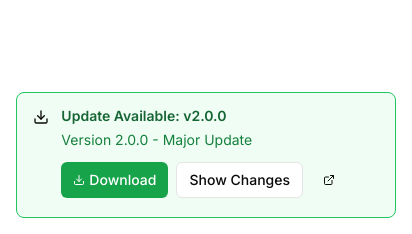
Test: UpdateNotification › should toggle changelog visibility
The image size is (412, 234).
Check: the text "Update Available: v2.0.0" is shown, box x1=61 y1=107 x2=226 y2=124
Check: the text "## Changes" is not shown
Click to show changelog
What coordinates should you click on to do the following:
click the button "Show Changes"
I would click on:
 (240, 180)
Its box is x1=176 y1=162 x2=303 y2=198.
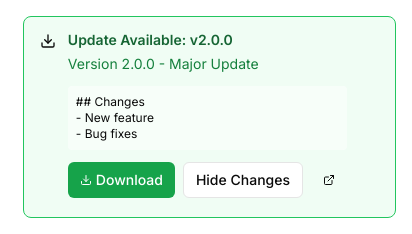
Check: the text "## Changes - New feature - Bug fixes" is shown, box x1=76 y1=94 x2=154 y2=141
Check: the button "Hide Changes" is shown
Click to hide
What coordinates should you click on to do the following:
click the button "Hide Changes"
I would click on:
 (243, 180)
Its box is x1=183 y1=162 x2=303 y2=198.
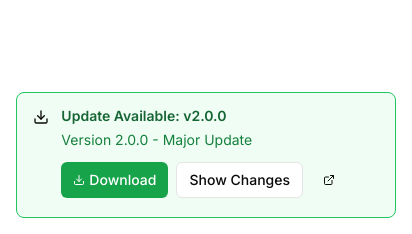
Check: the text "## Changes" is gone
